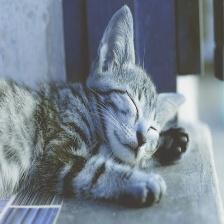kedo: (2, 7, 189, 207)
